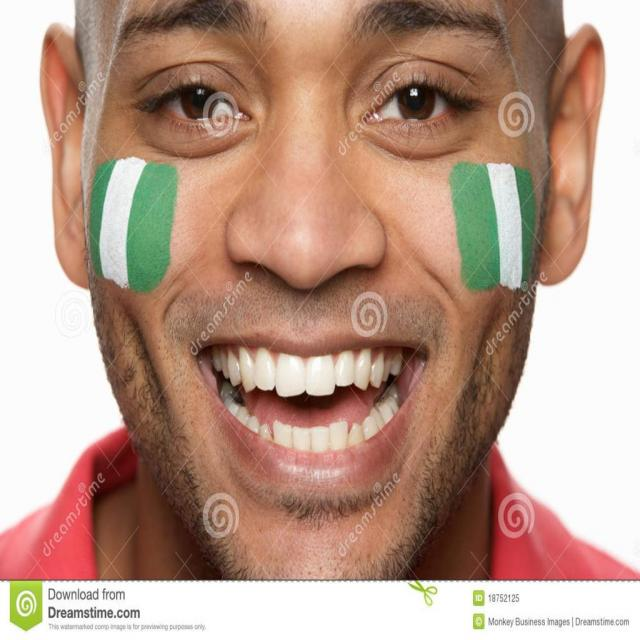nomask: (76, 2, 546, 586)
